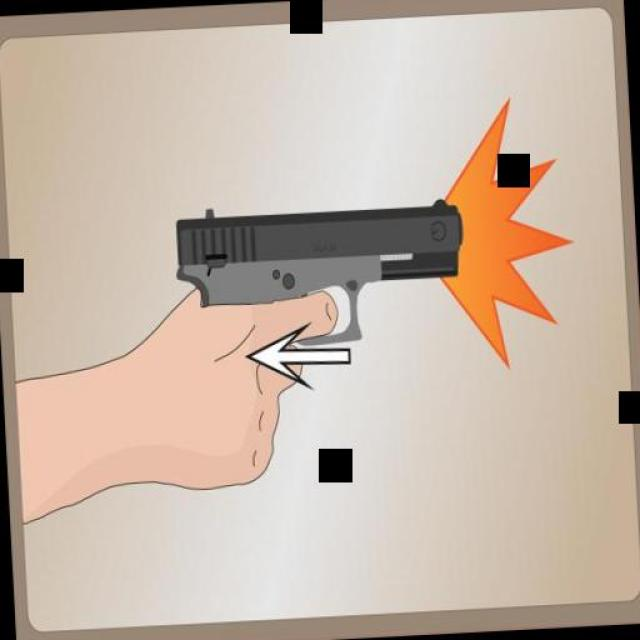gun: (170, 184, 469, 355)
